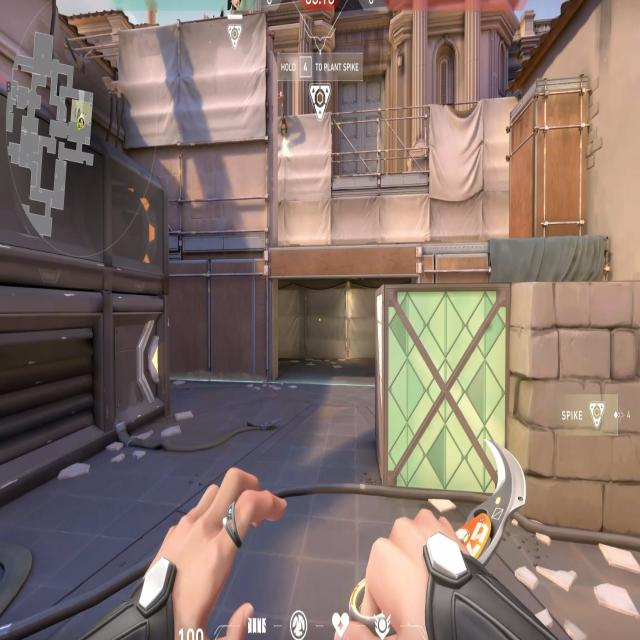A_Heaven_Box: (513, 85, 587, 231)
A_Heaven_Wall: (117, 30, 278, 245)
A_Hell: (250, 256, 441, 389)
A_Site_Box: (376, 286, 640, 516)
